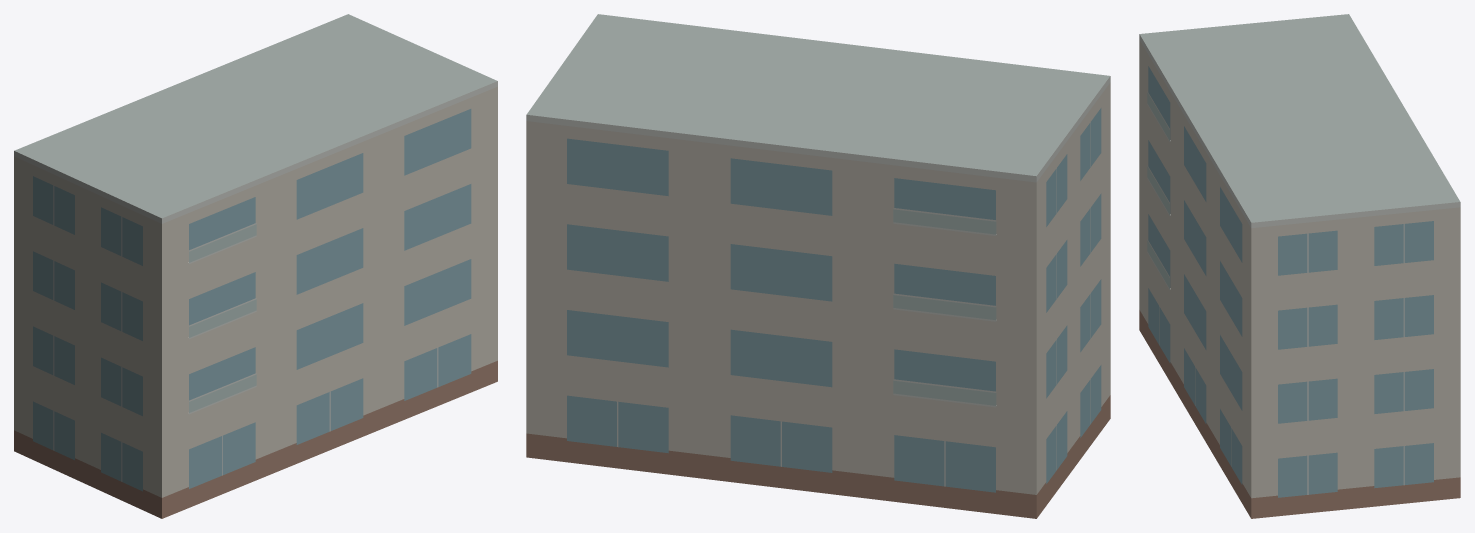
File: survey-upis-32912802.glb
3 views of the same model, side by side, from view 1: azimuth 30°, elevation 25°; view 2: azimuth 150°, elevation 25°; view 3: azimuth 270°, elevation 25° (orthographic). The views are drawn at different scales.
Parts seen in each view (by area): view 1: survey-upis-32912802.tmp; view 2: survey-upis-32912802.tmp; view 3: survey-upis-32912802.tmp.
Part boxes in pixels (x1=…): survey-upis-32912802.tmp: x1=14, y1=14, x2=497, y2=518; survey-upis-32912802.tmp: x1=526, y1=14, x2=1110, y2=518; survey-upis-32912802.tmp: x1=1139, y1=14, x2=1460, y2=518.
Size of the model in its own units: 20.12 by 13.3 by 13.08.
